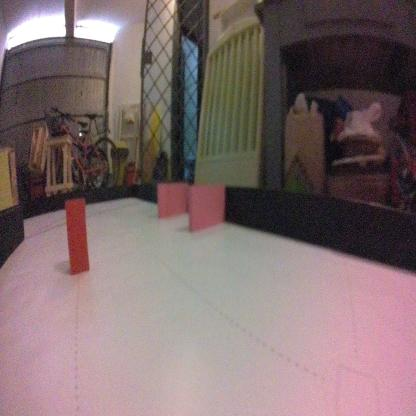magenta: (188, 183, 225, 233), (156, 180, 189, 218)
red: (63, 195, 92, 270)
